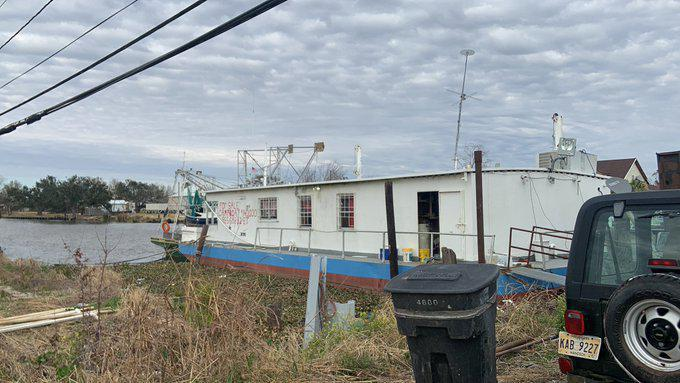affected: (184, 153, 612, 292)
